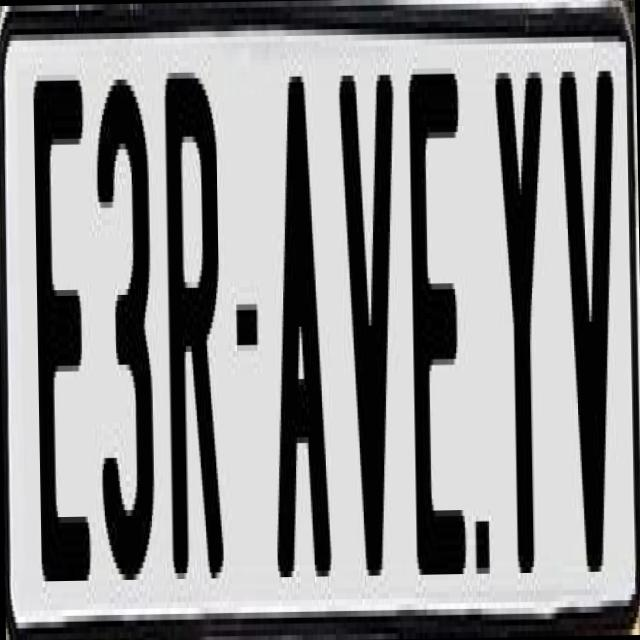3: (95, 67, 155, 568)
A: (268, 64, 340, 600)
E: (29, 62, 92, 570), (404, 56, 466, 563)
R: (164, 60, 226, 590)
V: (336, 68, 404, 587), (559, 65, 622, 601)
Y: (491, 72, 548, 602)
